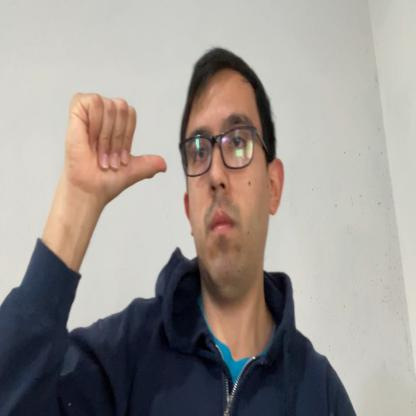A: (64, 88, 168, 200)
